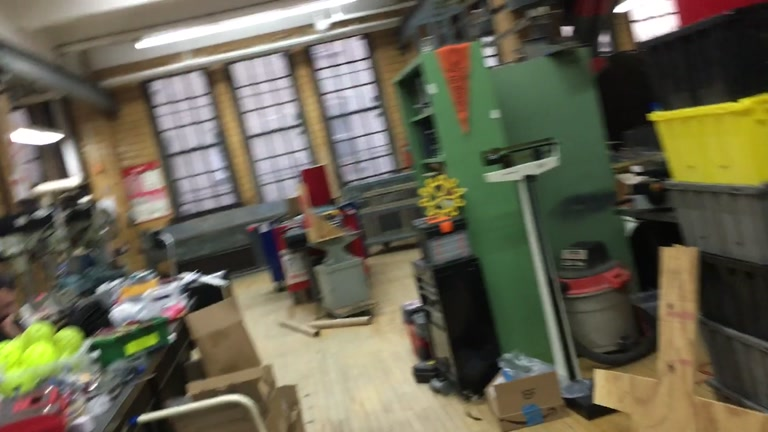gear: (417, 173, 466, 220)
